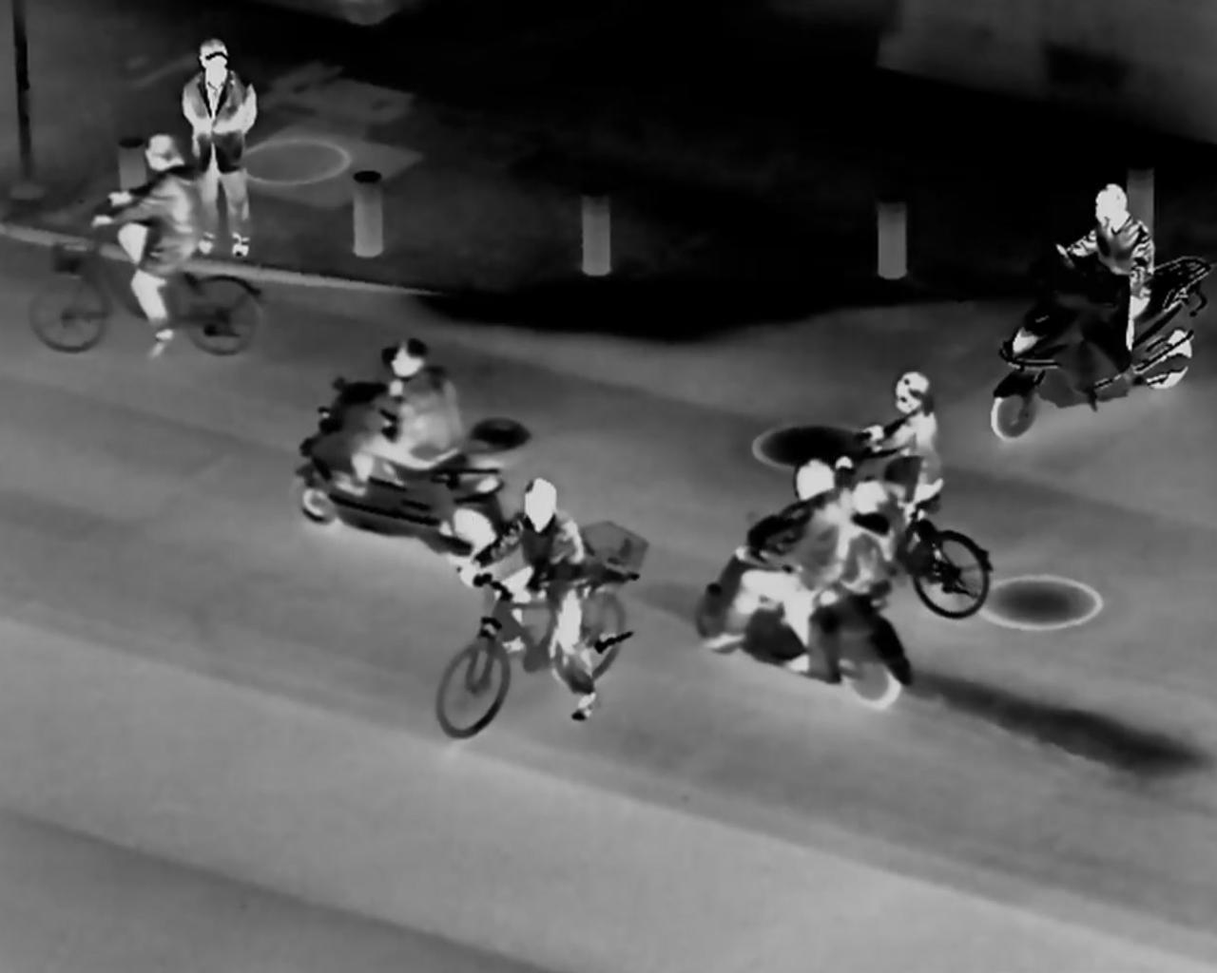person: (469, 466, 612, 715), (98, 120, 206, 355), (344, 325, 468, 511), (171, 29, 274, 248), (1074, 170, 1165, 395), (743, 458, 837, 650), (873, 367, 947, 540), (832, 481, 899, 662)
